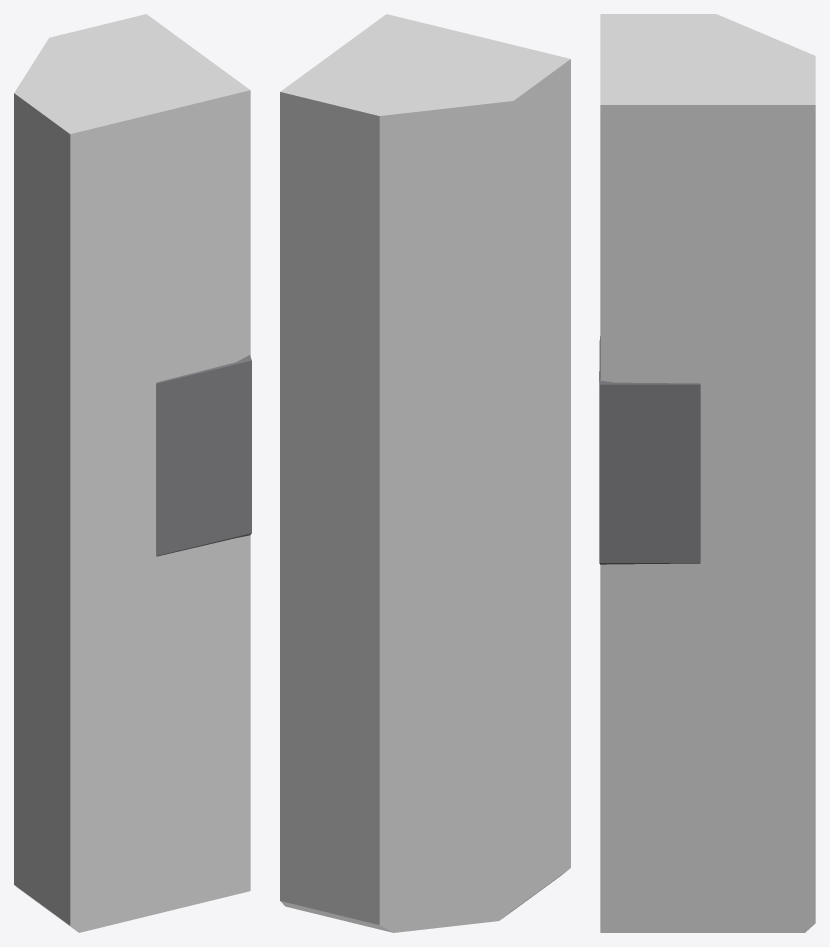
File: SM_Bld_Wall_Corner_Pillar_03.fbx
3 renders of one model, left to right at view 1: azimuth 30°, elevation 25°; view 2: azimuth 150°, elevation 25°; view 3: azimuth 270°, elevation 25°, orthographic. The views are drawn at different scales.
Parts seen in each view (by area): view 1: SM_Bld_Wall_Corner_Pillar_03_ConvexHulls, SM_Bld_Wall_Corner_Pillar_03_LOD0; view 2: SM_Bld_Wall_Corner_Pillar_03_ConvexHulls; view 3: SM_Bld_Wall_Corner_Pillar_03_ConvexHulls, SM_Bld_Wall_Corner_Pillar_03_LOD0.
Boxes of the visible parts, bbox=[...] form: SM_Bld_Wall_Corner_Pillar_03_ConvexHulls: bbox=[14, 14, 250, 932]; SM_Bld_Wall_Corner_Pillar_03_LOD0: bbox=[156, 355, 251, 556]; SM_Bld_Wall_Corner_Pillar_03_ConvexHulls: bbox=[280, 14, 570, 932]; SM_Bld_Wall_Corner_Pillar_03_ConvexHulls: bbox=[600, 14, 815, 932]; SM_Bld_Wall_Corner_Pillar_03_LOD0: bbox=[599, 336, 700, 564].
Size of the model in its own units: 121 by 121 by 509.
Materials: 1 (1 with a texture image).
